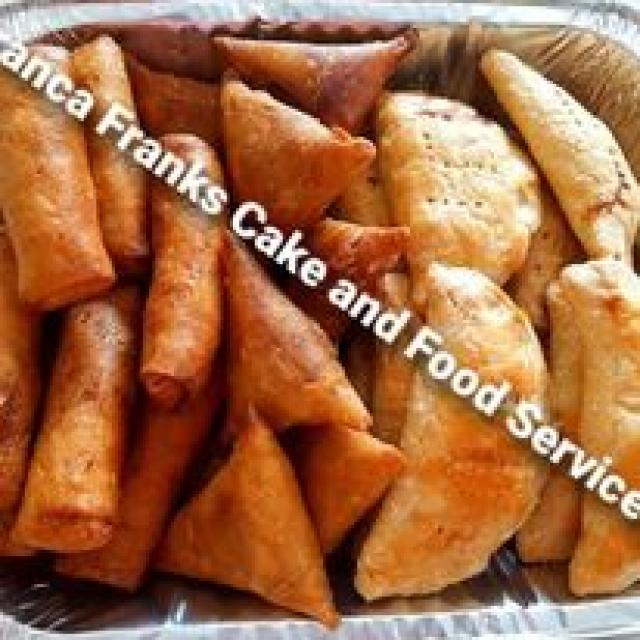Samosa: (202, 28, 379, 593)
Spring Rolls: (1, 20, 208, 579)
